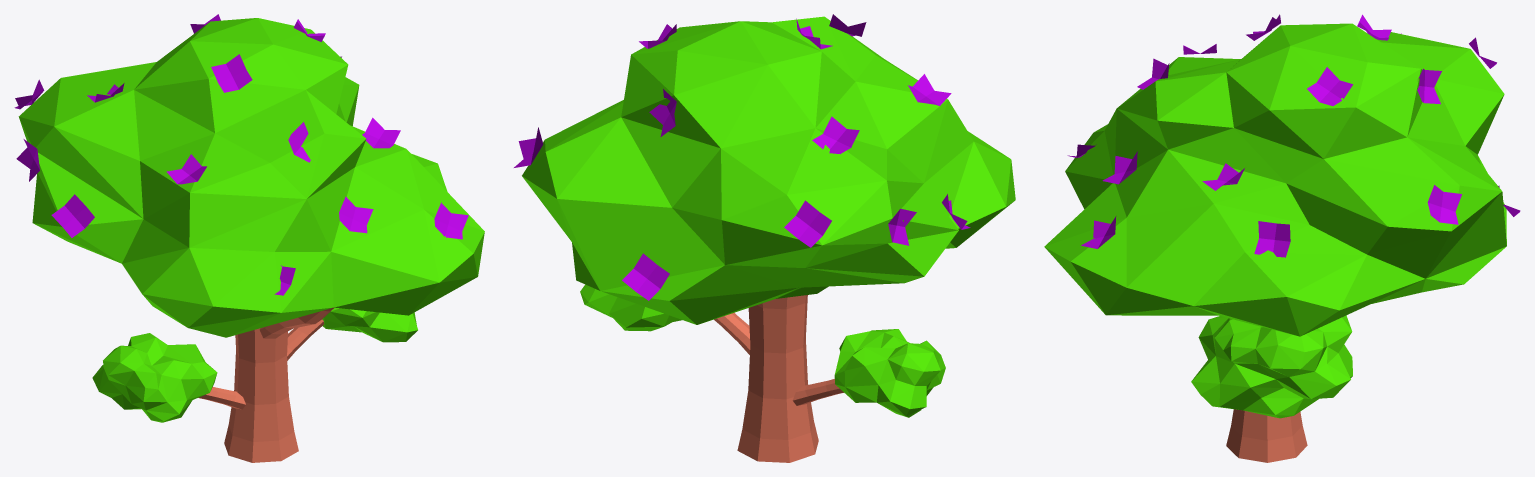
The model's file is Tupelo.fbx.
3 renders of one model, left to right at view 1: azimuth 30°, elevation 25°; view 2: azimuth 150°, elevation 25°; view 3: azimuth 270°, elevation 25°, orthographic. The views are drawn at different scales.
Parts seen in each view (by area): view 1: Cylinder.001; view 2: Cylinder.001; view 3: Cylinder.001.
Part boxes in pixels (x1=…): Cylinder.001: x1=14, y1=14, x2=484, y2=462; Cylinder.001: x1=514, y1=14, x2=1015, y2=462; Cylinder.001: x1=1044, y1=14, x2=1520, y2=462.
Size of the model in its own units: 158 by 158 by 163.
